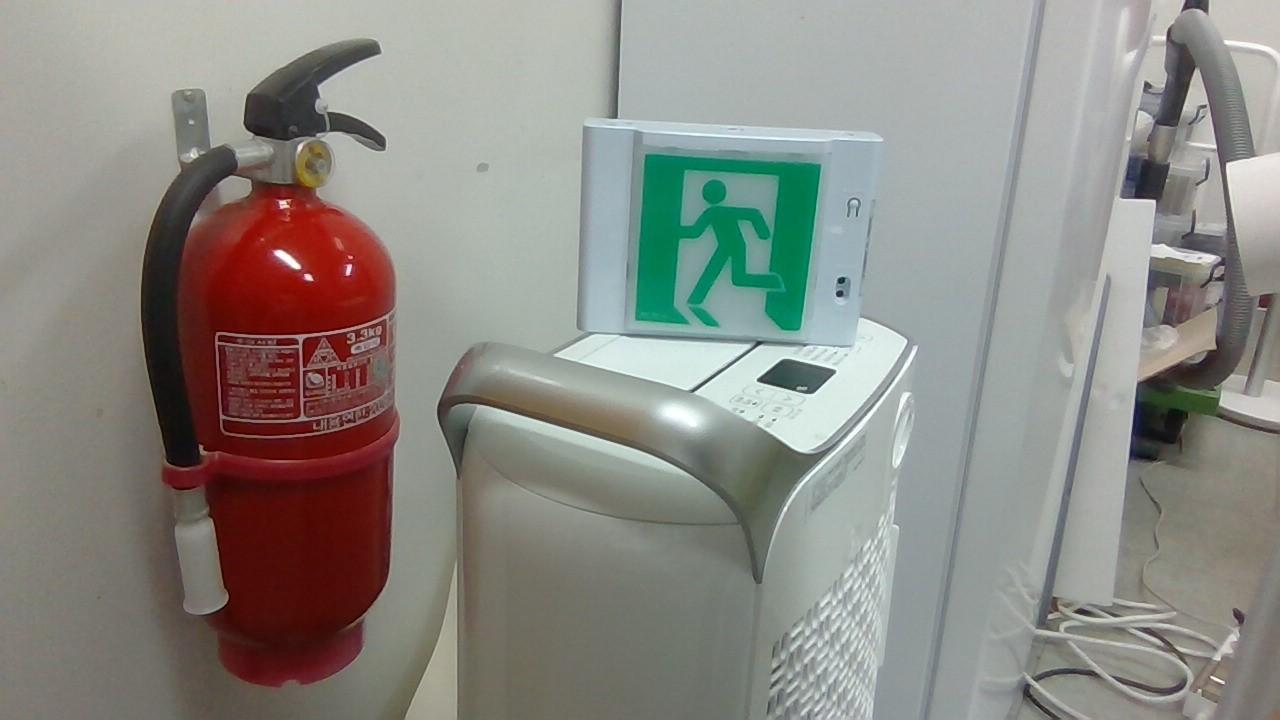emergency_exit: (575, 116, 884, 348)
